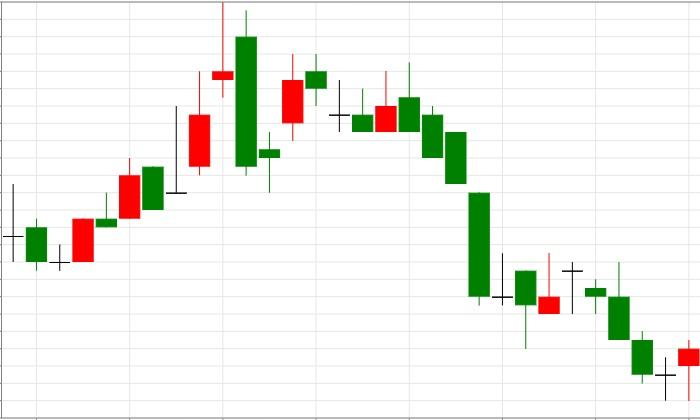hammer_rise: (399, 62, 536, 350)
morning_star_rise: (562, 261, 699, 401)
